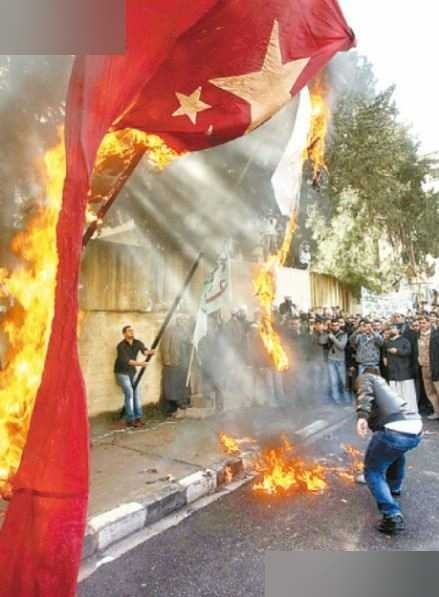fire: (213, 426, 364, 496), (249, 214, 289, 376), (292, 79, 328, 179)
